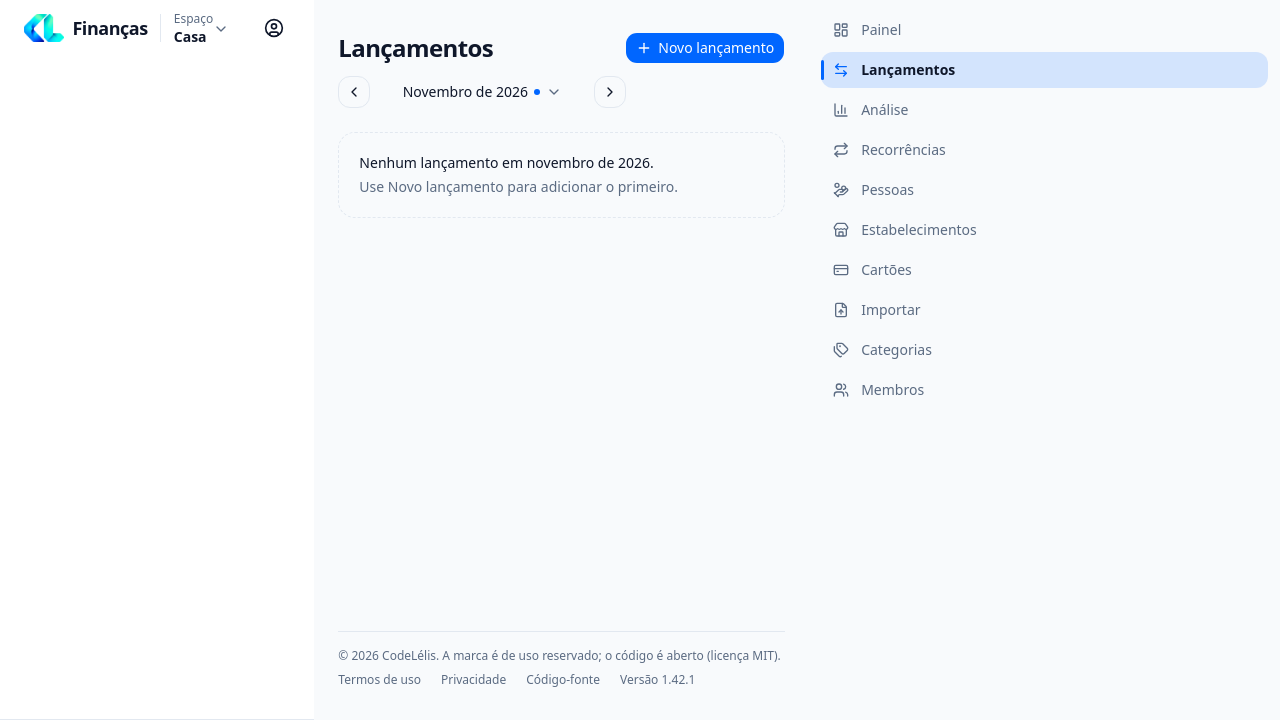
Test: TransactionsPage › opens the competência of the address, and points to Novo lançamento when it is empty
The width and height of the screenshot is (1280, 720).
Check: the text "Nenhum lançamento em novembro de 2026." is shown, box [359, 153, 654, 172]
Check: the text "Use Novo lançamento para adicionar o primeiro." is shown, box [359, 177, 678, 196]
Click the button "Novo lançamento": (705,48) [625, 32, 785, 64]
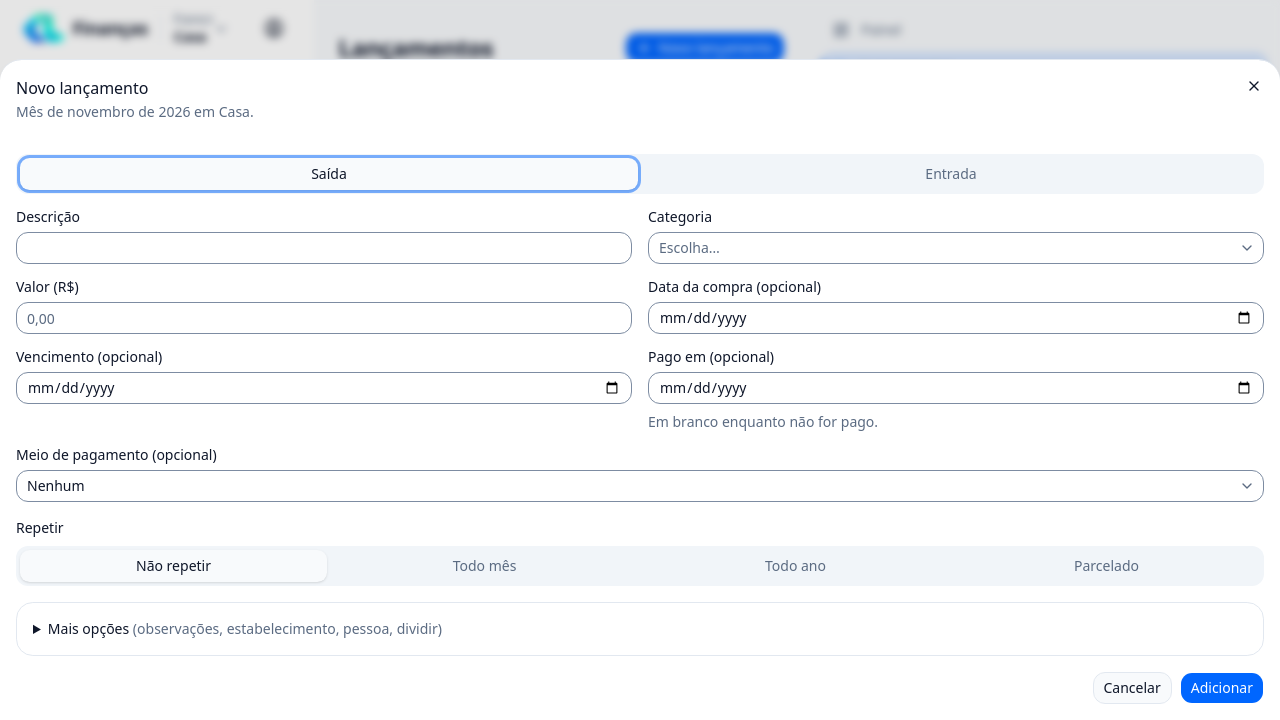
Check: the dialog "Novo lançamento" shows "Mês de novembro de 2026 em Casa.", box [16, 102, 254, 121]
